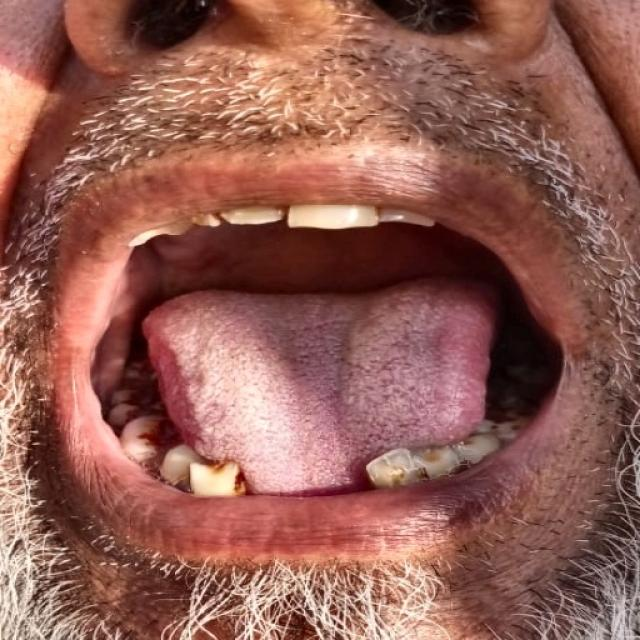processing_area: (96, 228, 491, 499)
